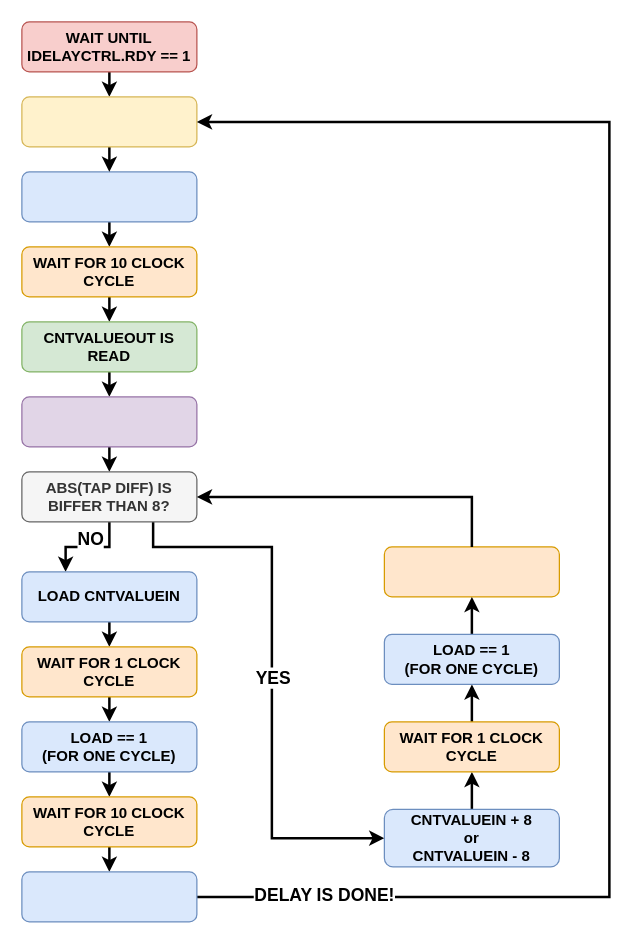
Some shapes in this 643 by 944 pixel diagram are drawn without their labels. The box of each missing label's shape, as (x1, y1, x2, y2) in pixels:
EN_VTC == 0: (21, 171, 197, 222)
EN_VTC == 1: (21, 871, 197, 922)
NEW DELAY VALUE IS EXPECTED: (21, 96, 197, 147)
NEW TAP VALUE IS CALCULATED: (21, 396, 197, 447)
WAIT FOR 5 CLOCK CYCLE: (383, 546, 559, 597)
